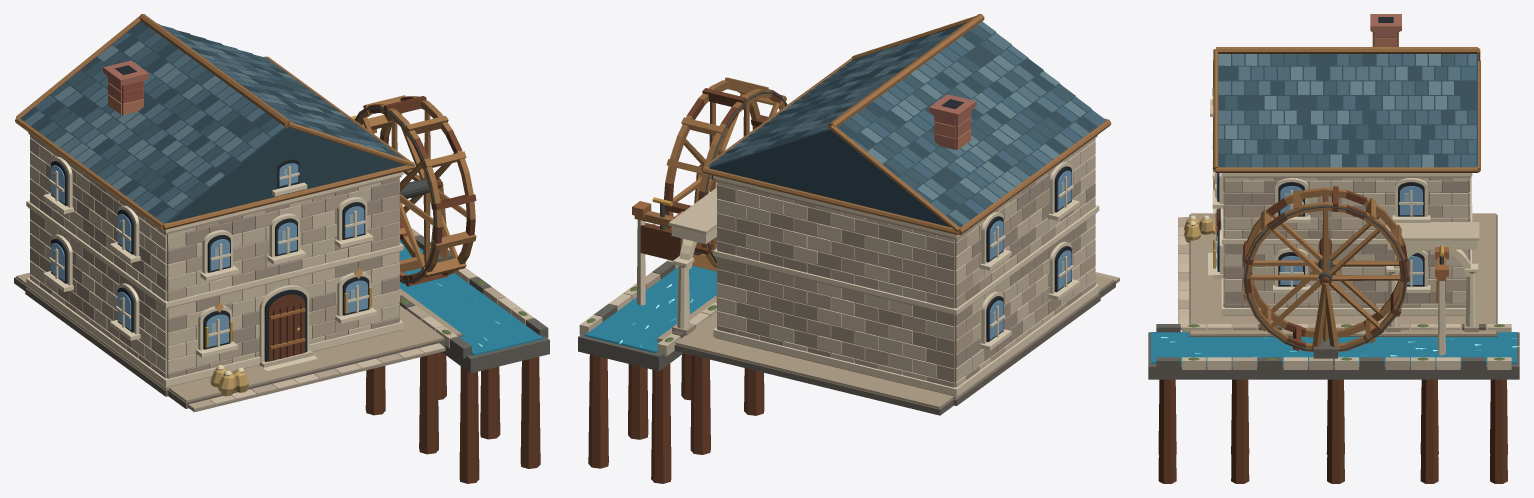
The model's file is watermill-nivel-4.glb.
3 renders of one model, left to right at view 1: azimuth 30°, elevation 25°; view 2: azimuth 150°, elevation 25°; view 3: azimuth 270°, elevation 25°, orthographic. The views are drawn at different scales.
Parts seen in each view (by area): view 1: Moinho 04 #344d58, Moinho 04 #e6d7ba, Moinho 04 #dac9af, Moinho 04 #ae9d8b, Moinho 04 #70432c, Moinho 04 #c1af99, Moinho 04 #d3c3a9, Aros e pás 1 #9f7145.003, Moinho 04 #b4a38a, Moinho 04 #486574, Moinho 04 #9f7145, Moinho 04 #55717e (+12 smaller); view 2: Moinho 04 #344d58, Moinho 04 #c1af99, Moinho 04 #ae9d8b, Moinho 04 #e6d7ba, Moinho 04 #d3c3a9, Moinho 04 #dac9af, Moinho 04 #70432c, Moinho 04 #b4a38a, Moinho 04 #55717e, Moinho 04 #3f5a65, Moinho 04 #9f7145, Moinho 04 #486574 (+10 smaller); view 3: Moinho 04 #344d58, Aros e pás 1 #9f7145.003, Moinho 04 #70432c, Moinho 04 #e6d7ba, Moinho 04 #b4a38a, Moinho 04 #d3c3a9, Moinho 04 #256477, Moinho 04 #dac9af, Moinho 04 #6a665e, Moinho 04 #486574, Moinho 04 #3f5a65, Moinho 04 #55717e (+13 smaller).
Part boxes in pixels (x1,y1,x2,y2): Moinho 04 #344d58: [20, 21, 404, 223]; Moinho 04 #e6d7ba: [26, 156, 403, 387]; Moinho 04 #dac9af: [30, 151, 519, 398]; Moinho 04 #ae9d8b: [30, 155, 445, 412]; Moinho 04 #70432c: [216, 178, 540, 483]; Moinho 04 #c1af99: [30, 135, 505, 409]; Moinho 04 #d3c3a9: [30, 145, 533, 404]; Aros e pás 1 #9f7145.003: [354, 95, 476, 283]; Moinho 04 #b4a38a: [16, 132, 461, 402]; Moinho 04 #486574: [34, 25, 390, 223]; Moinho 04 #9f7145: [15, 14, 448, 260]; Moinho 04 #55717e: [24, 23, 379, 211]; Moinho 04 #344d58: [708, 25, 1097, 227]; Moinho 04 #c1af99: [645, 167, 1119, 387]; Moinho 04 #ae9d8b: [717, 173, 1119, 382]; Moinho 04 #e6d7ba: [637, 162, 1099, 396]; Moinho 04 #d3c3a9: [579, 145, 1097, 381]; Moinho 04 #dac9af: [609, 138, 1095, 387]; Moinho 04 #70432c: [588, 164, 764, 483]; Moinho 04 #b4a38a: [657, 135, 1113, 408]; Moinho 04 #55717e: [734, 21, 1089, 225]; Moinho 04 #3f5a65: [727, 25, 1075, 208]; Moinho 04 #9f7145: [634, 14, 1111, 235]; Moinho 04 #486574: [706, 40, 1106, 215]; Moinho 04 #344d58: [1218, 54, 1477, 167]; Aros e pás 1 #9f7145.003: [1243, 187, 1407, 354]; Moinho 04 #70432c: [1158, 208, 1507, 483]; Moinho 04 #e6d7ba: [1208, 87, 1478, 355]; Moinho 04 #b4a38a: [1190, 176, 1496, 335]; Moinho 04 #d3c3a9: [1178, 178, 1511, 369]; Moinho 04 #256477: [1151, 332, 1516, 363]; Moinho 04 #dac9af: [1178, 178, 1468, 369]; Moinho 04 #6a665e: [1148, 324, 1519, 379]; Moinho 04 #486574: [1251, 54, 1476, 167]; Moinho 04 #3f5a65: [1218, 54, 1476, 167]; Moinho 04 #55717e: [1218, 54, 1476, 153].
Bounding box in the file's own units: 9.68 × 9.84 × 9.77.
